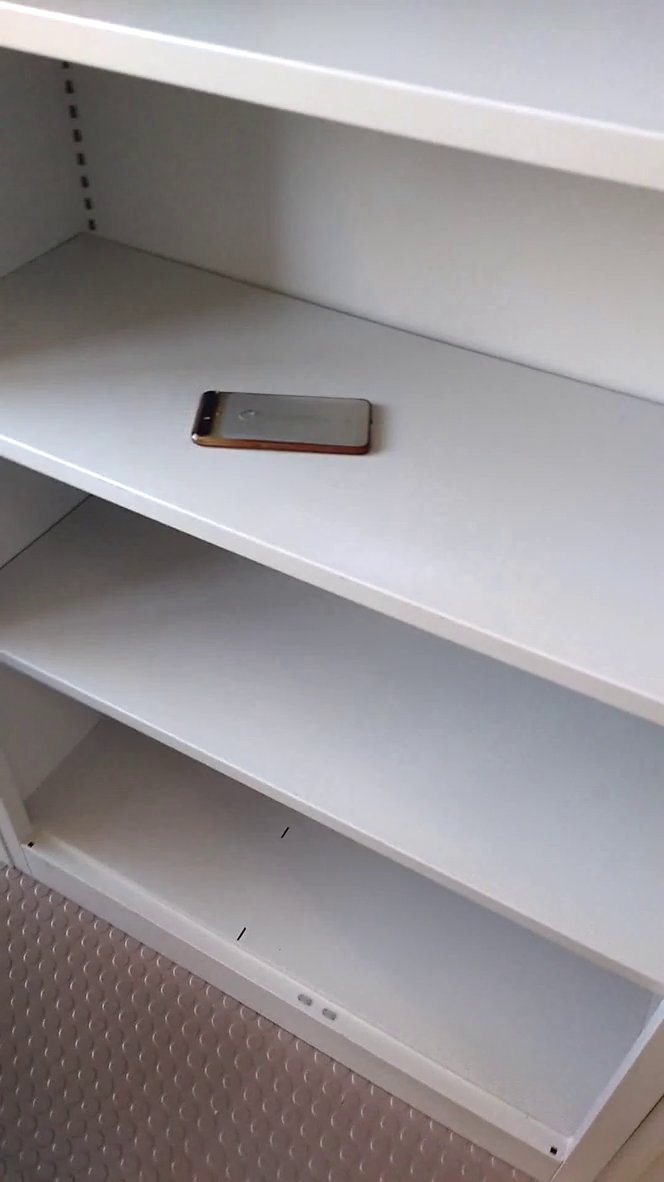phone: (182, 383, 394, 473)
